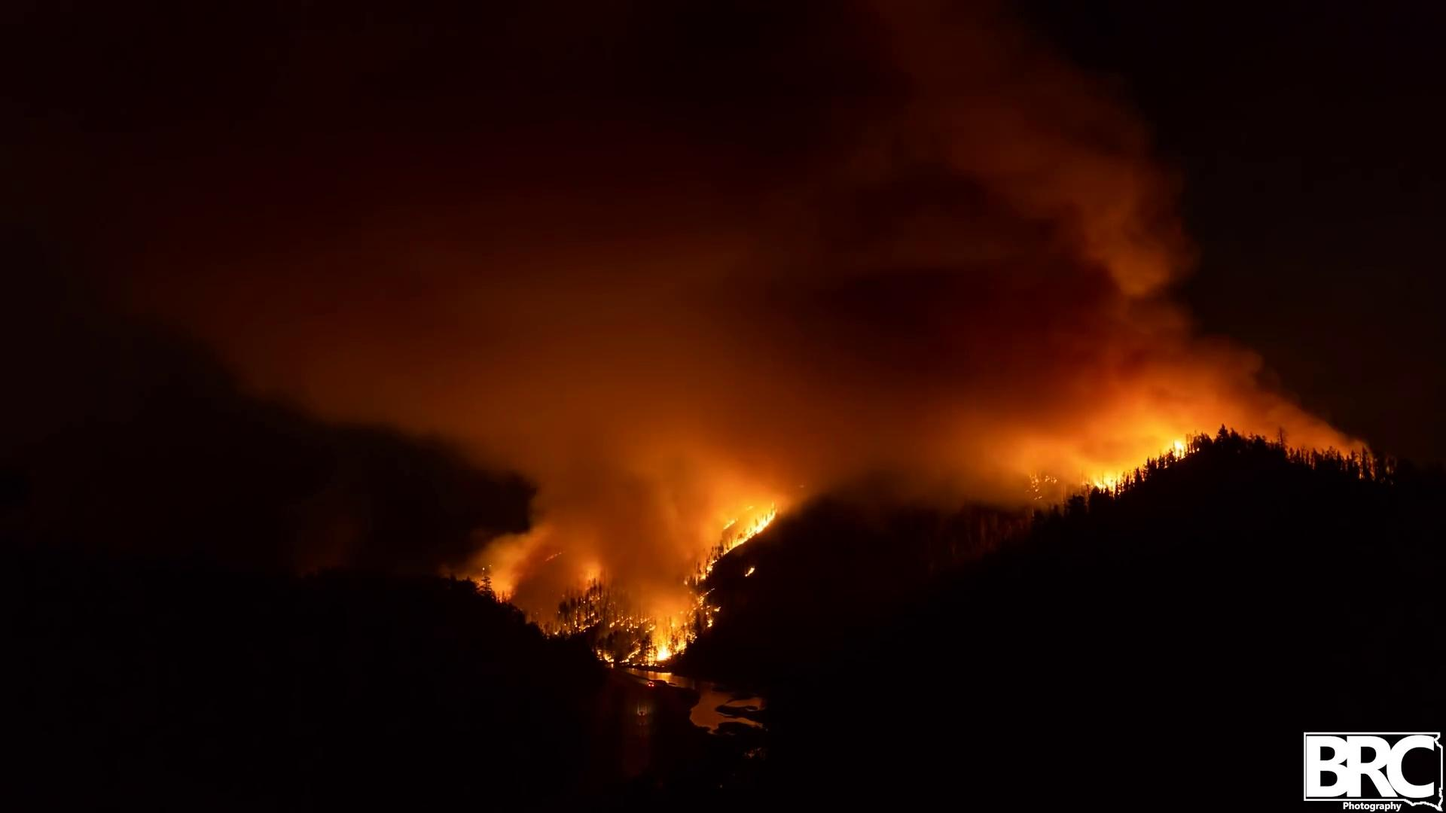fire: (590, 613, 702, 668), (697, 506, 776, 579), (1083, 462, 1131, 498), (1157, 434, 1191, 460)
